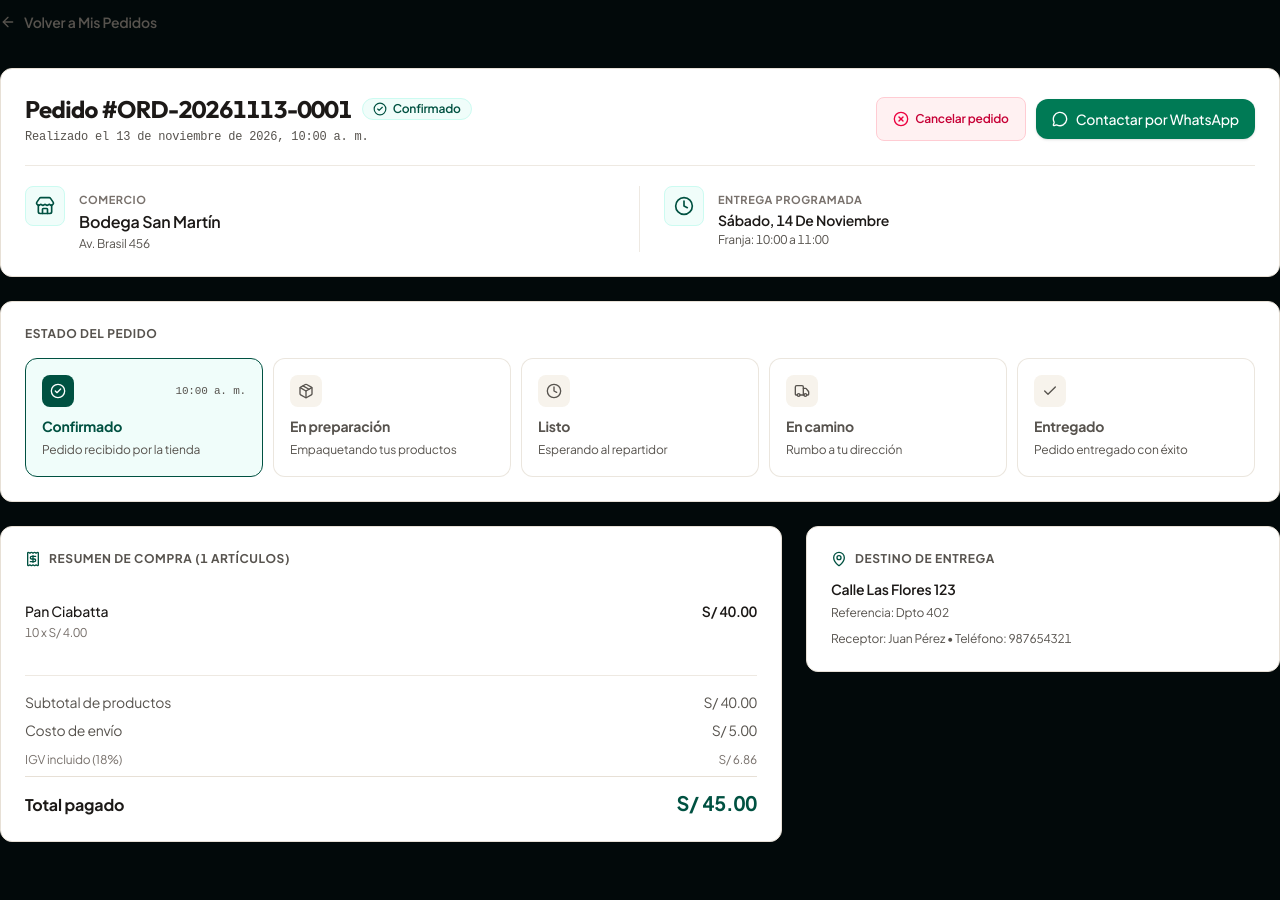
Scenario: OrderDetailView Component › error de regla de negocio: shows backend message in modal without closing
// Open modal
Click the button "Cancelar pedido".
click(951, 119)  # box [876,97,1026,141]
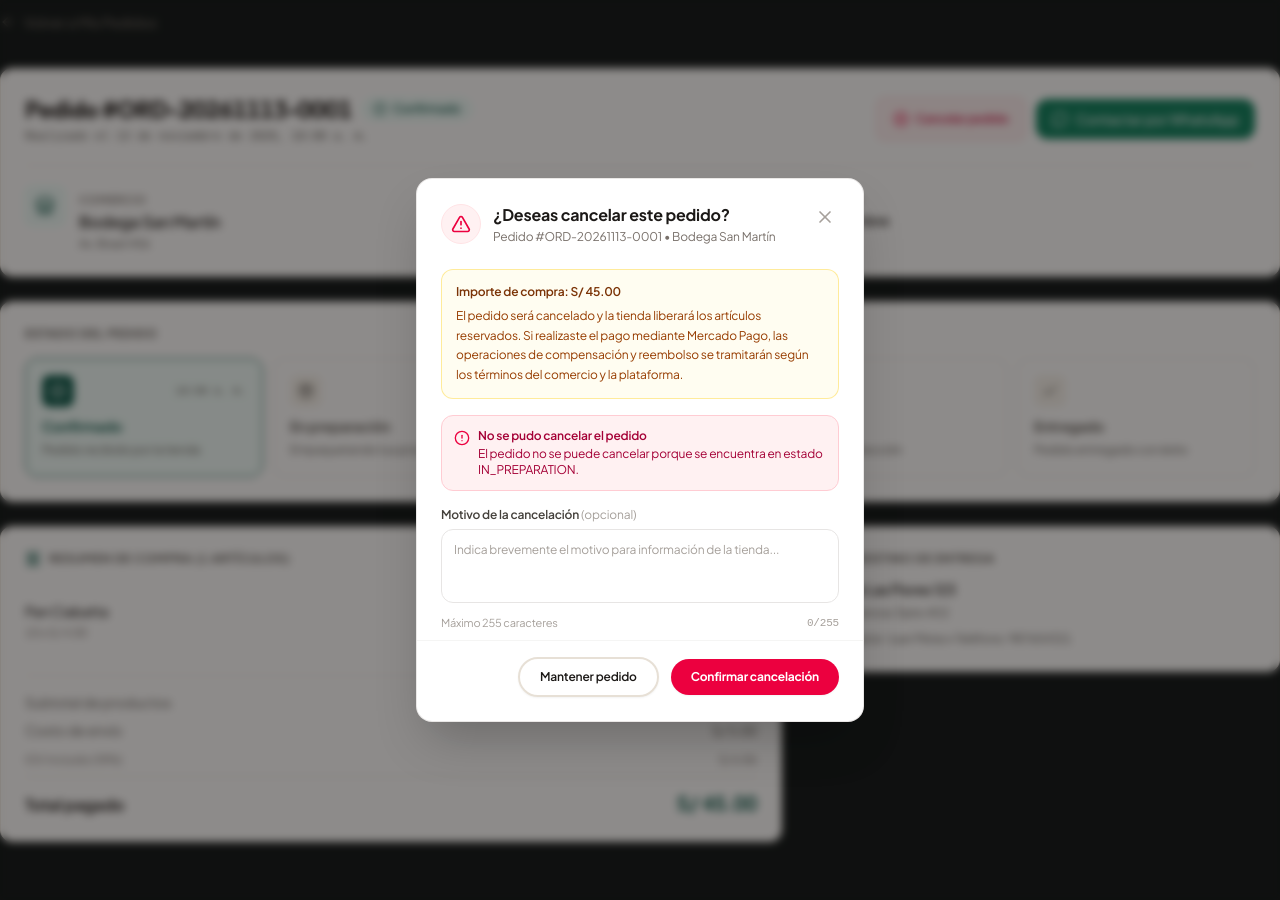
Expected: the dialog is shown
Expected: the text "El pedido no se puede cancelar porque se encuentra en estado IN_PREPARATION." is shown, [478,446,826,478]
